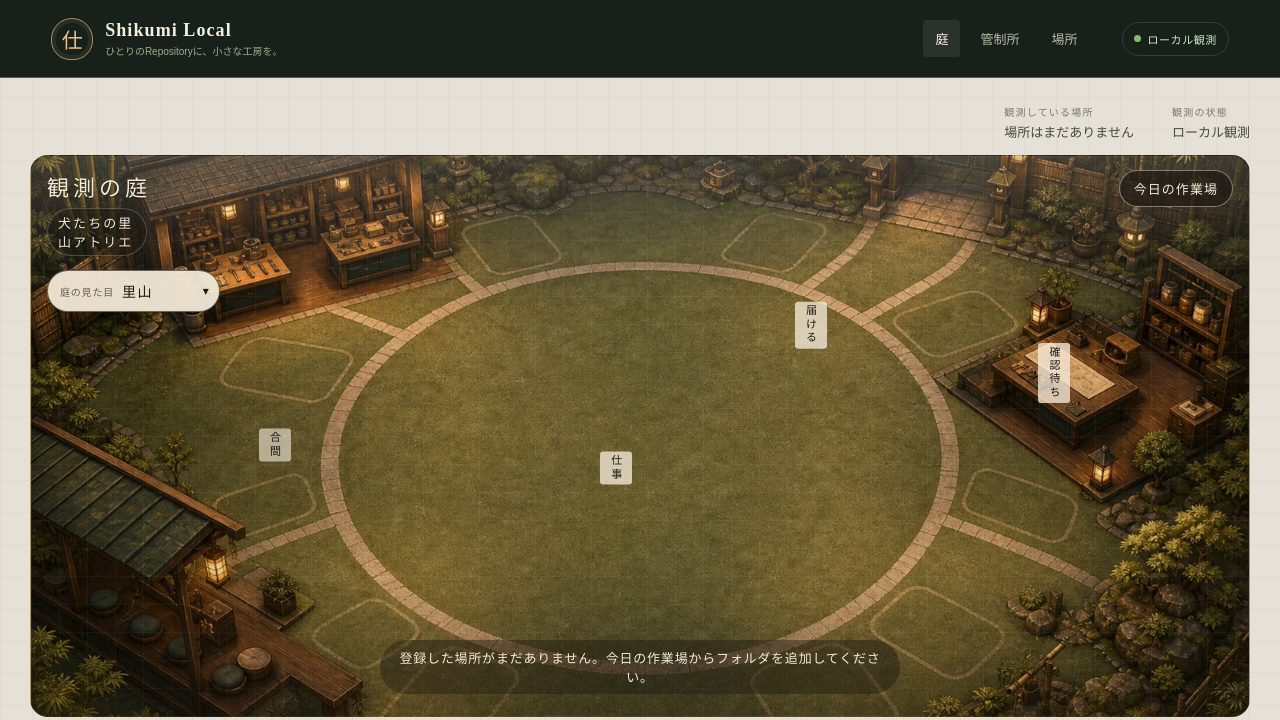
Scenario: Shikumi Local garden › shows the control room summary, waiting, conflict, and running work
Click the link "管制所".
click(1000, 40)  # box [980,32,1020,47]
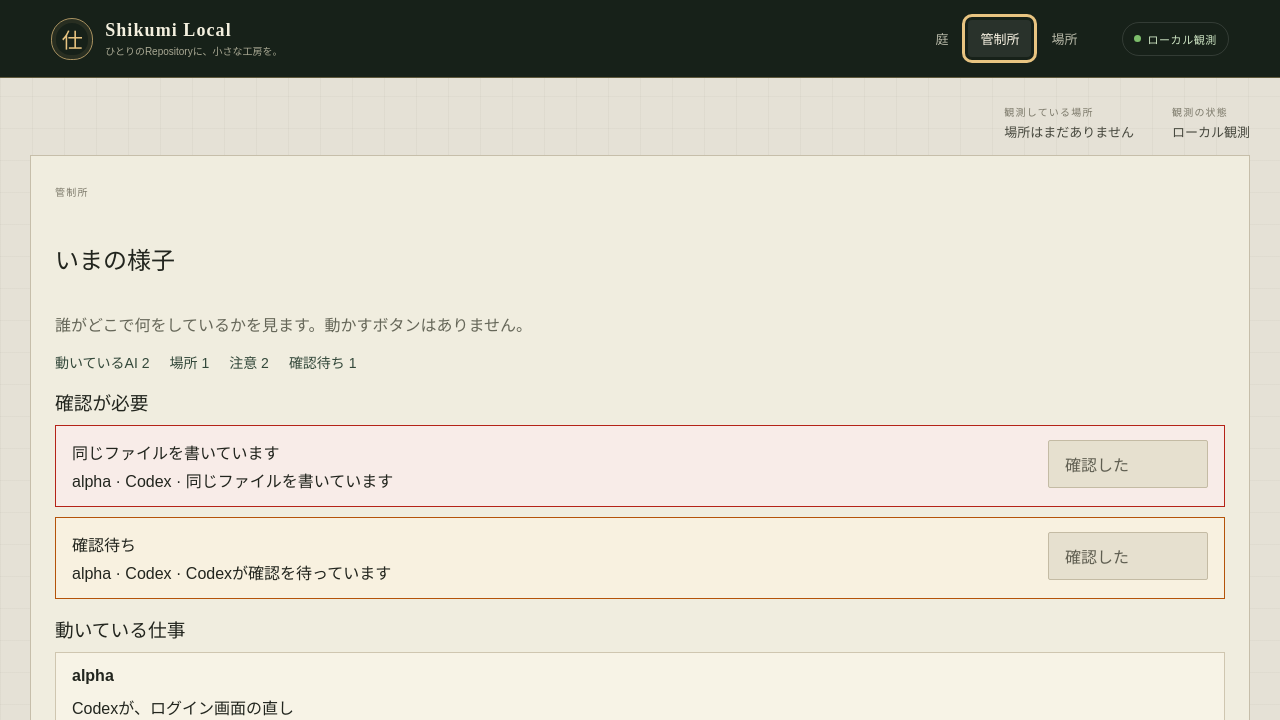
Result: the element with test id "control-room-summary" shows "動いているAI 2" at [55,355,357,371]
Result: the text "確認待ち" is shown at [72,537,136,554]
Result: the text "同じファイルを書いています" is shown at [72,445,280,462]
Click the link "庭".
click(942, 40)  # box [936,32,948,47]
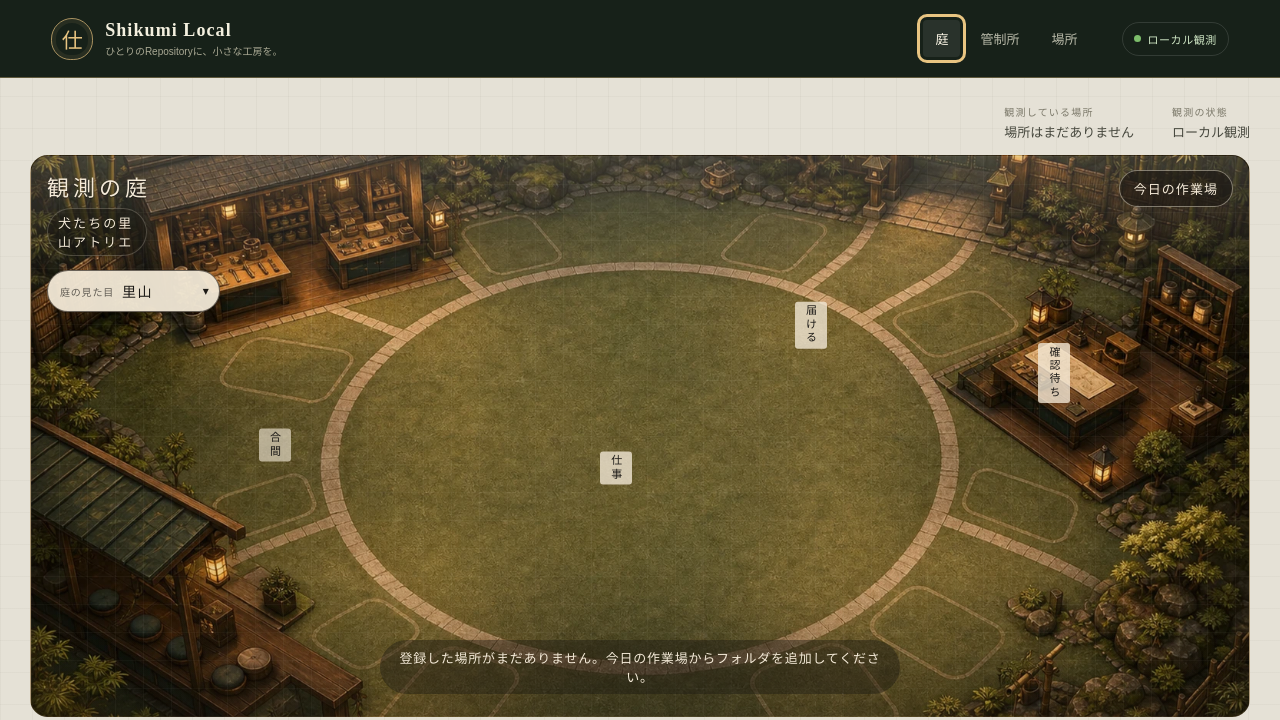
Result: the heading "観測の庭" is shown at [47,176,151,201]
